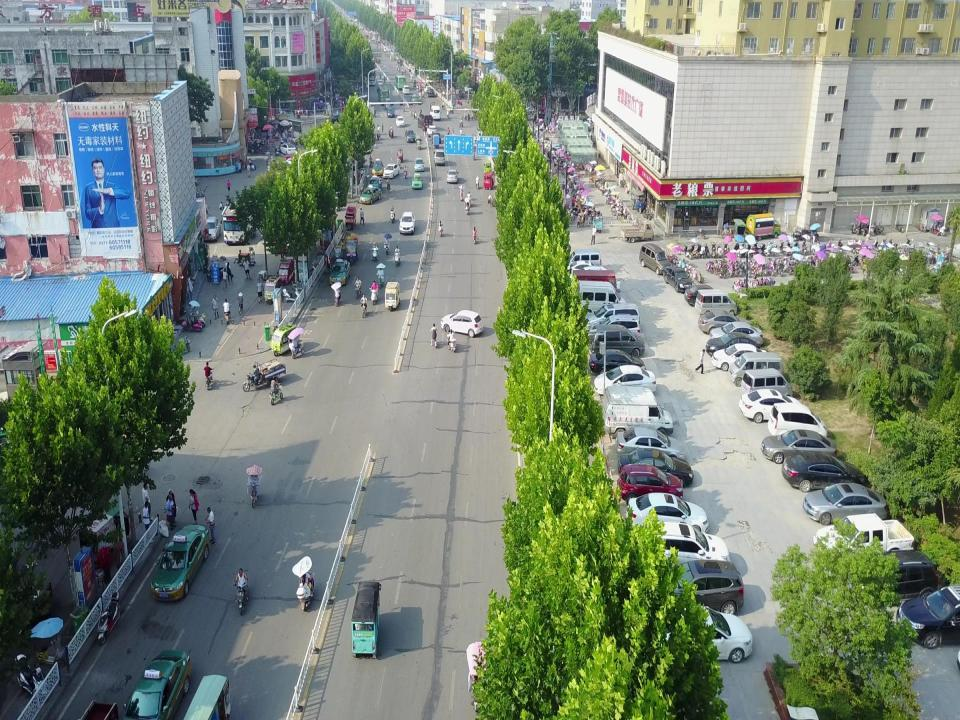car: (646, 604, 754, 665), (614, 521, 730, 577), (639, 560, 747, 614), (847, 549, 939, 608), (120, 649, 193, 718), (150, 524, 210, 603), (894, 584, 960, 650), (627, 493, 711, 543), (803, 481, 889, 526), (782, 451, 866, 492), (616, 449, 694, 489), (617, 462, 685, 504), (760, 430, 838, 465), (614, 428, 687, 462), (768, 403, 830, 441), (739, 388, 805, 422), (592, 364, 658, 396), (710, 344, 770, 372), (582, 302, 640, 329), (697, 309, 753, 336), (587, 316, 643, 342), (709, 321, 765, 347), (589, 350, 646, 374), (440, 309, 484, 338), (706, 332, 760, 355), (639, 241, 671, 277), (565, 265, 611, 290), (662, 264, 694, 292), (683, 284, 719, 307), (558, 261, 600, 280), (328, 258, 351, 286), (359, 187, 383, 204), (399, 211, 415, 235), (382, 163, 401, 178), (446, 169, 460, 183), (411, 173, 423, 189), (372, 159, 384, 175), (413, 157, 425, 171), (395, 115, 405, 127)
truck: (812, 514, 914, 566)
van: (602, 387, 676, 437), (588, 323, 646, 358), (729, 350, 785, 386), (576, 279, 628, 316), (740, 368, 794, 401), (696, 290, 740, 316), (562, 250, 603, 274), (202, 216, 221, 242), (417, 112, 433, 130), (434, 148, 446, 167), (404, 129, 416, 143), (430, 131, 442, 144), (427, 126, 438, 138)
